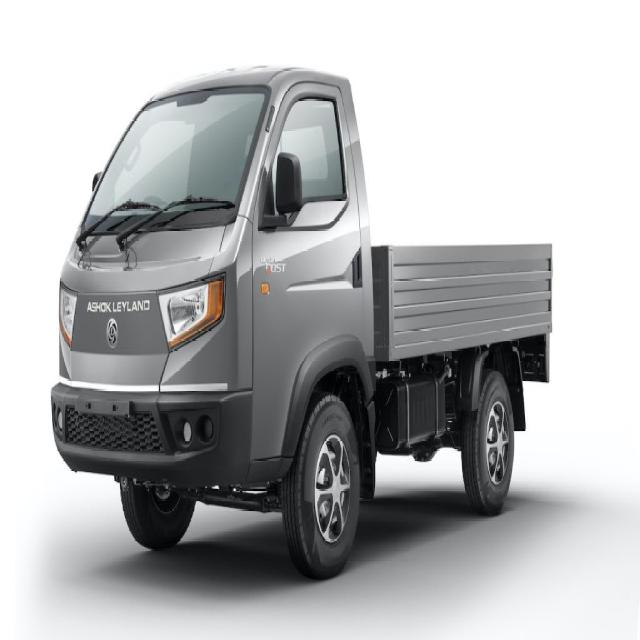truck: (51, 67, 552, 578)
